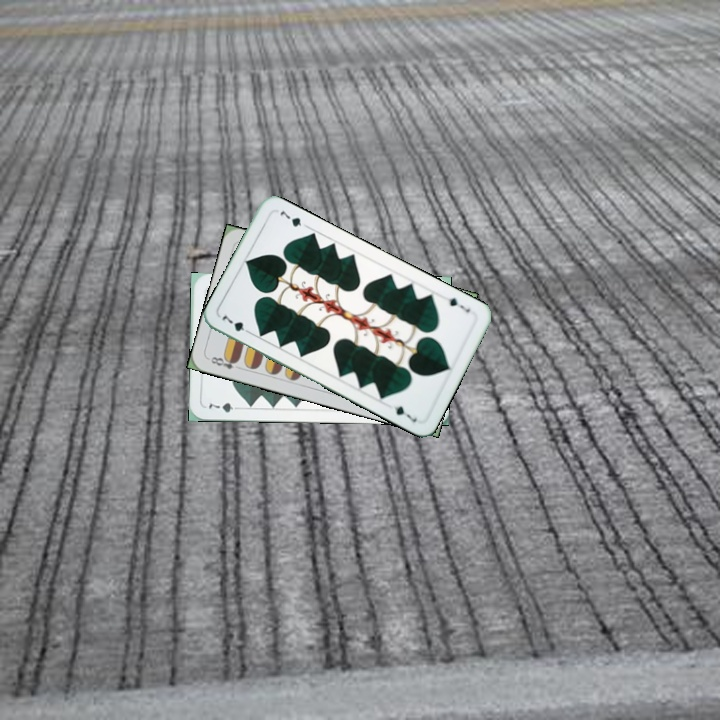E8: (207, 352, 244, 372)
G7: (218, 310, 255, 337), (205, 398, 244, 415), (444, 294, 473, 315)
